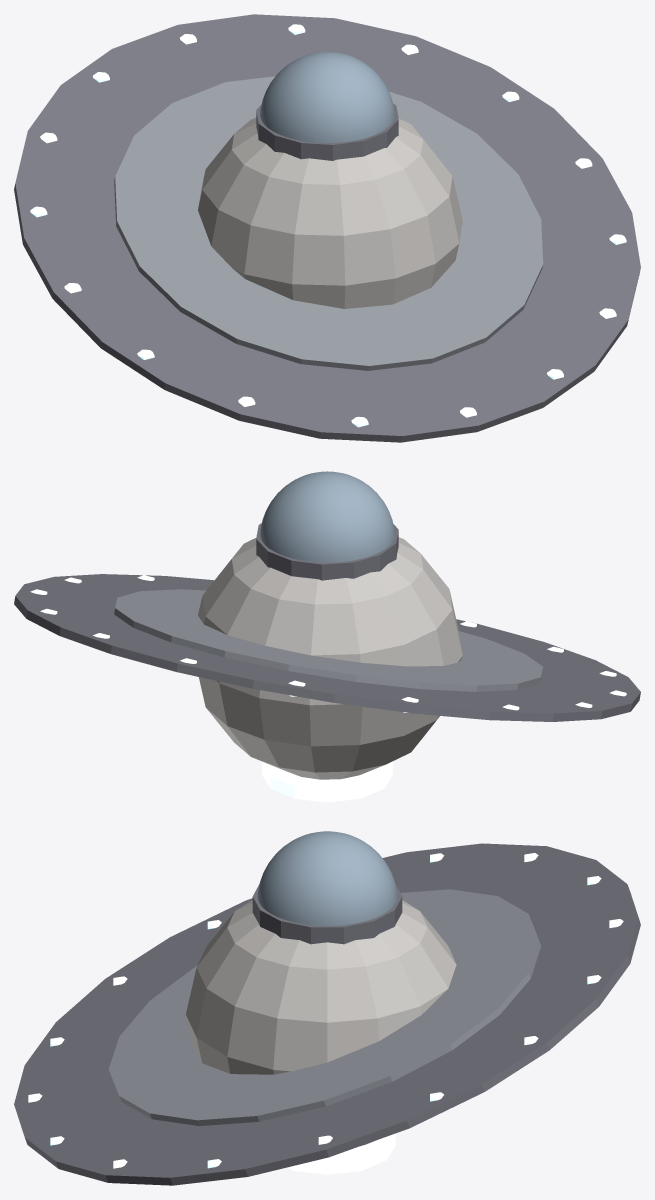
File: saturn.glb
3 renders of one model, top to bottom at view 1: azimuth 30°, elevation 25°; view 2: azimuth 150°, elevation 25°; view 3: azimuth 270°, elevation 25°, orthographic. The views are drawn at different scales.
Parts seen in each view (by area): view 1: saturn, dome.007; view 2: saturn, dome.007; view 3: saturn, dome.007.
Boxes of the visible parts, box(x1,y1,x2,y2) form: saturn: box(14, 14, 640, 442); dome.007: box(260, 52, 394, 142); saturn: box(14, 523, 640, 802); dome.007: box(260, 471, 394, 562); saturn: box(14, 843, 640, 1185); dome.007: box(257, 831, 397, 925).
Bounding box in the file's own units: 5.8 × 3 × 5.53.
